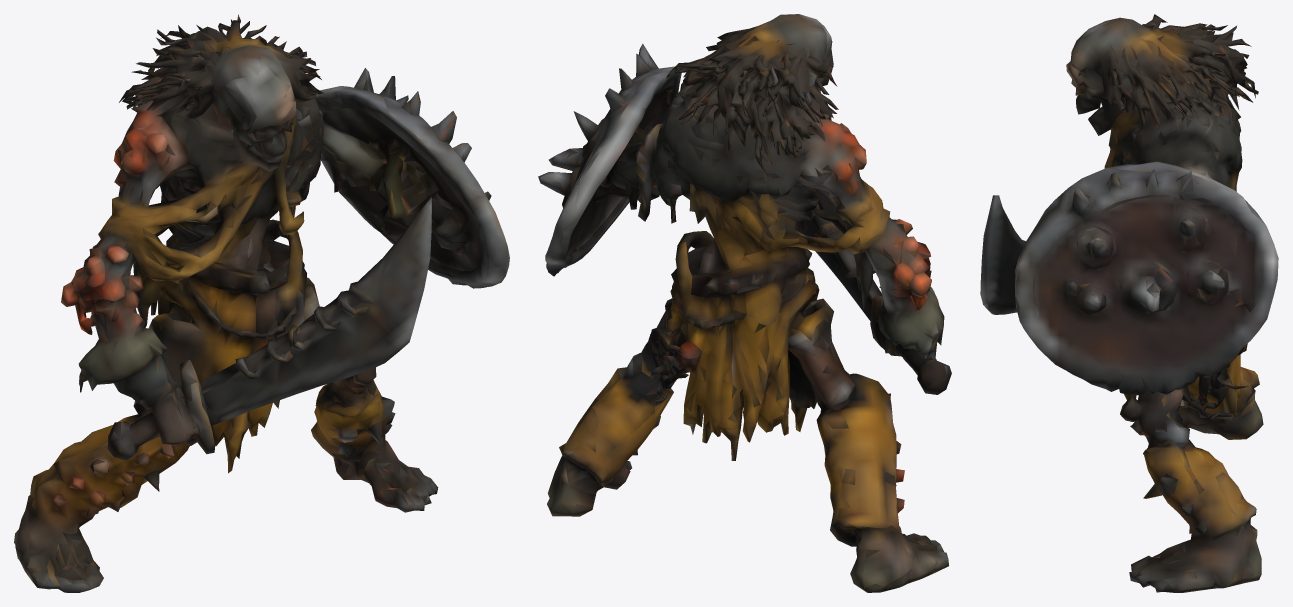
File: Skeletal Warrior_final.glb
The picture shows the model from 3 angles, left to right: view 1: azimuth 30°, elevation 25°; view 2: azimuth 150°, elevation 25°; view 3: azimuth 270°, elevation 25°; orthographic projection. The views are drawn at different scales.
Visible parts, largest first — view 1: Mesh1.0; view 2: Mesh1.0; view 3: Mesh1.0.
Part boxes in pixels (x1,y1,x2,y2): Mesh1.0: [14, 14, 509, 592]; Mesh1.0: [538, 14, 951, 592]; Mesh1.0: [980, 14, 1278, 592].
Size of the model in its own units: 1.75 by 2 by 1.13.
Materials: 1 (1 with a texture image).
